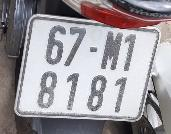1: (63, 69, 80, 112), (112, 75, 129, 117), (123, 32, 138, 73)
6: (41, 23, 67, 67)
7: (63, 24, 87, 68)
8: (33, 70, 58, 113), (84, 71, 108, 113)
M: (100, 29, 123, 71)
